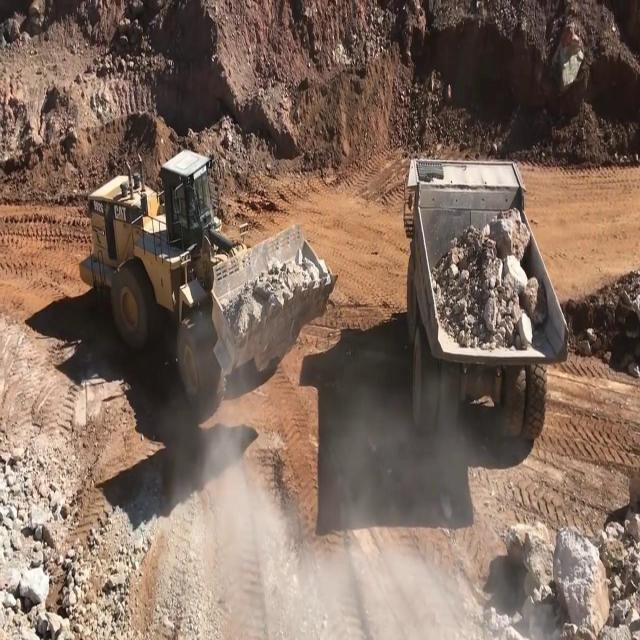buldozerpayloadergrader: (77, 143, 339, 413)
dump_truck: (398, 153, 572, 443)
